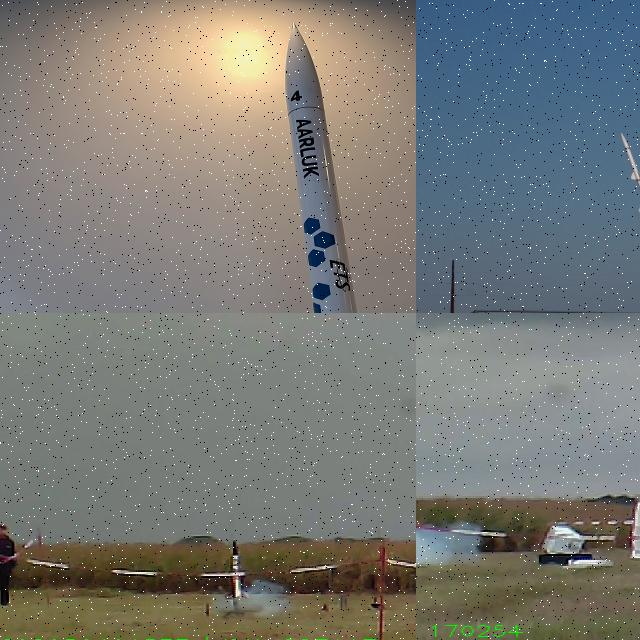Rocket: (285, 21, 358, 313), (619, 132, 640, 213), (224, 539, 251, 600)
